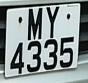3: (42, 36, 60, 73), (25, 39, 42, 74)
4: (8, 38, 26, 79)
5: (59, 35, 76, 71)
M: (24, 8, 45, 39)
Y: (43, 3, 62, 41)
